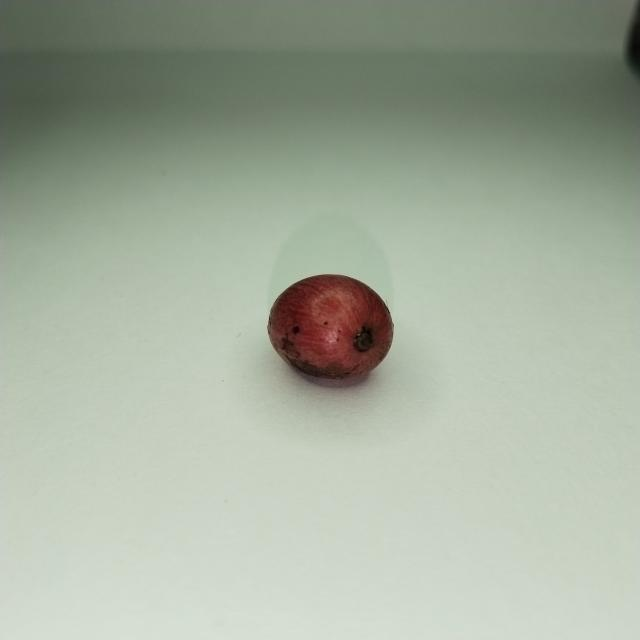Infectado: (268, 274, 393, 381)
